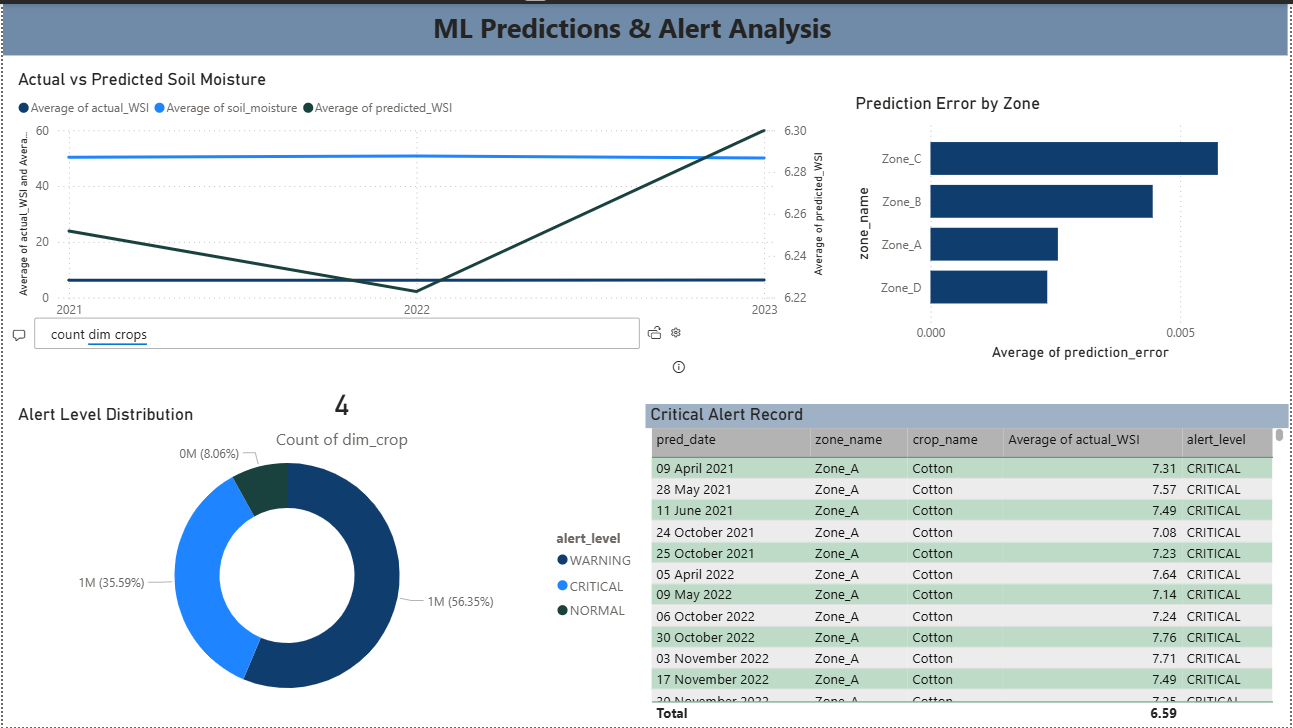

The page's visual inventory and layout, read from the dashboard file:
{"tool":"powerbi","page":{"name":" ML Predictions","canvas":[1280,720],"ordinal":2},"visuals":[{"type":"textbox","box":[0,0,1278.8,51],"z":0},{"type":"lineChart","title":"Actual vs Predicted Soil Moisture","fields":{"Y":["Avg(ml_predictions.actual_WSI)","Avg(ml_predictions.soil_moisture)"],"Y2":["Avg(ml_predictions.predicted_WSI)"],"Category":["ml_predictions.pred_date.Variation.Date Hierarchy.Year"]},"box":[10,64.7,813.5,267.5],"z":1000},{"type":"donutChart","title":"Alert Level Distribution","fields":{"Category":["ml_predictions.alert_level"],"Y":["Sum(ml_predictions.pred_id)"]},"box":[9.6,397.9,629.8,322.5],"z":2000},{"type":"tableEx","title":"Critical Alert Record","fields":{"Values":["ml_predictions.pred_date","ml_predictions.zone_name","ml_predictions.crop_name","Avg(ml_predictions.actual_WSI)","ml_predictions.alert_level"]},"box":[640,398,640,322],"z":3000},{"type":"clusteredBarChart","title":"Prediction Error by Zone","fields":{"Category":["ml_predictions.zone_name"],"Y":["Avg(ml_predictions.prediction_error)"]},"box":[843.4,88.3,398.1,271.2],"z":4000},{"type":"qnaVisual","box":[0,287.4,685.4,174.2],"z":4001}]}

Visuals, with their boxes in screenshot pixels (x1, y1, x2, y2), scaled from the page's 1280x720 canvas onto the 1293x728 screenshot:
textbox: box=[0, 0, 1292, 52]
"Actual vs Predicted Soil Moisture" lineChart: box=[10, 65, 832, 336]
"Alert Level Distribution" donutChart: box=[10, 402, 646, 727]
"Critical Alert Record" tableEx: box=[646, 402, 1292, 727]
"Prediction Error by Zone" clusteredBarChart: box=[852, 89, 1254, 363]
qnaVisual: box=[0, 291, 692, 467]
